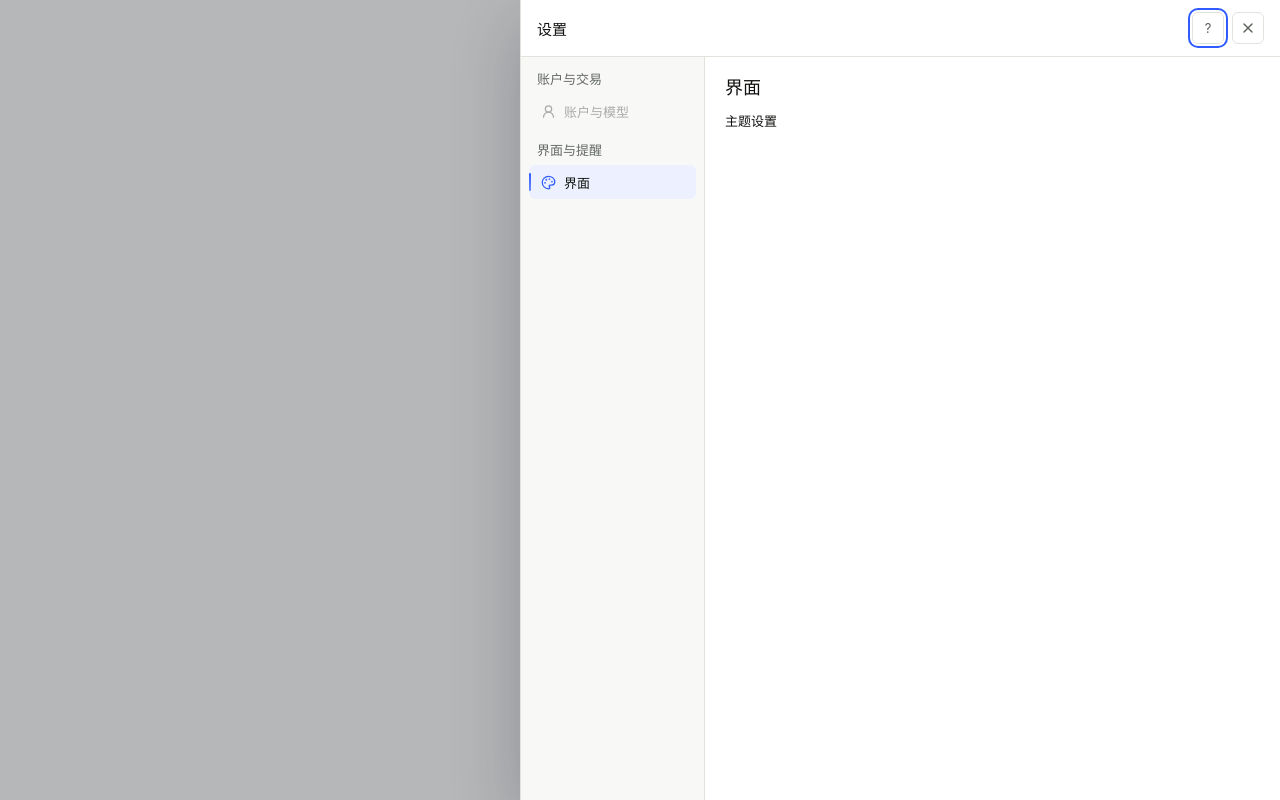
Test: blocked settings show feedback without mounting private content, even when selected externally
The width and height of the screenshot is (1280, 800).
Expected: the text "主题设置" is shown, [725,113,777,129]
Click the button "账户与模型".
click(612, 111)  # box [529,94,696,128]
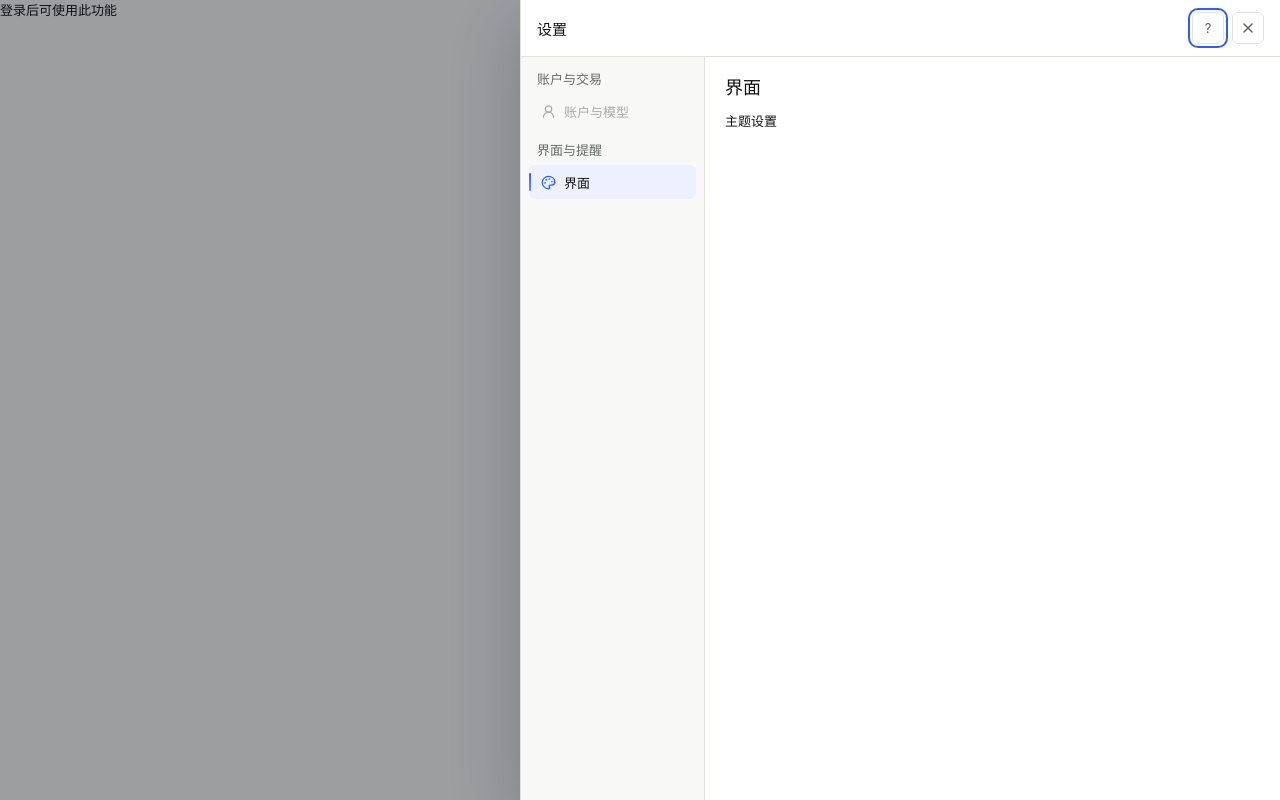
Now the message reads "登录后可使用此功能", box [0,2,117,18]
